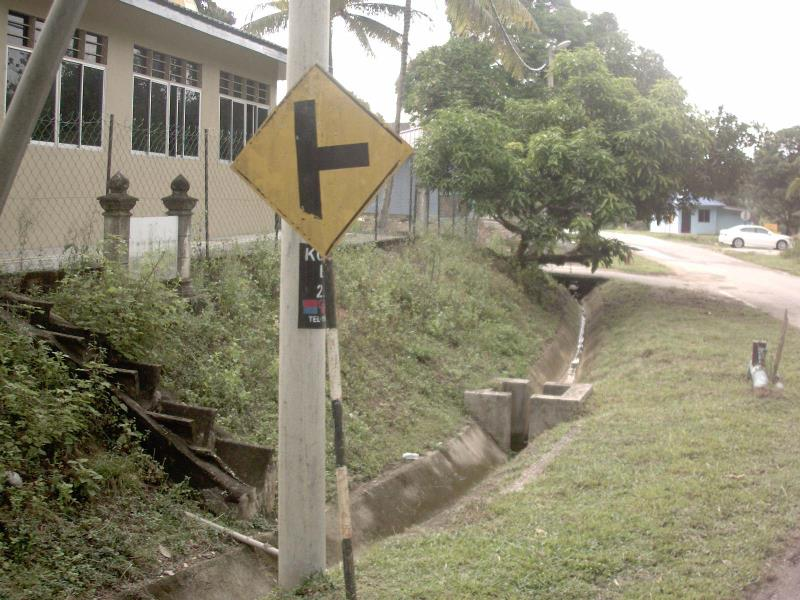traffic_sign: (217, 55, 421, 274)
